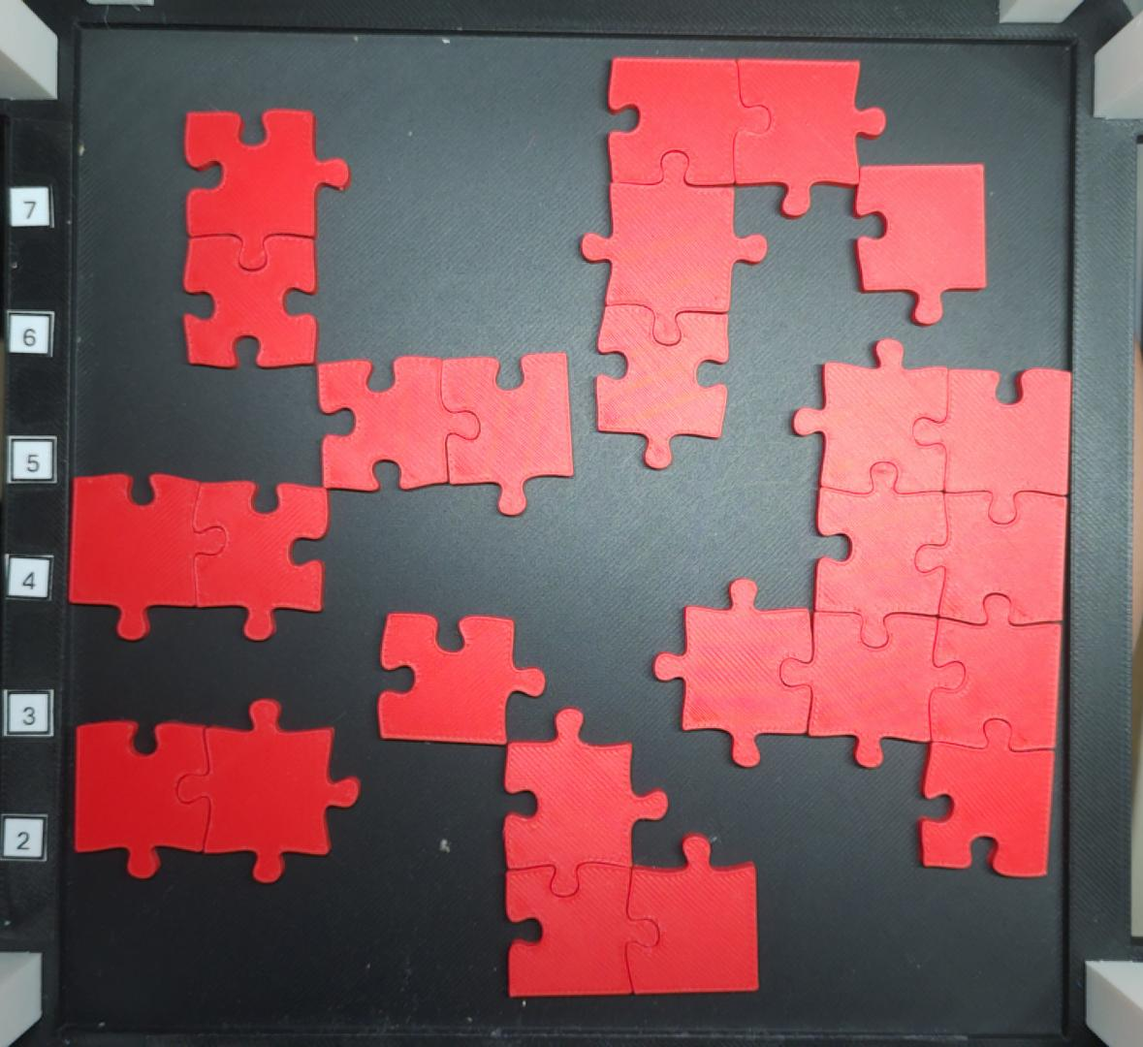p_1: (376, 611, 545, 746), (857, 166, 987, 325)
p_2: (77, 700, 361, 883), (69, 469, 332, 645), (182, 106, 350, 369), (314, 353, 576, 514)
p_3: (502, 704, 763, 998)
p_4: (580, 53, 885, 467)
p_m: (647, 335, 1074, 876)
